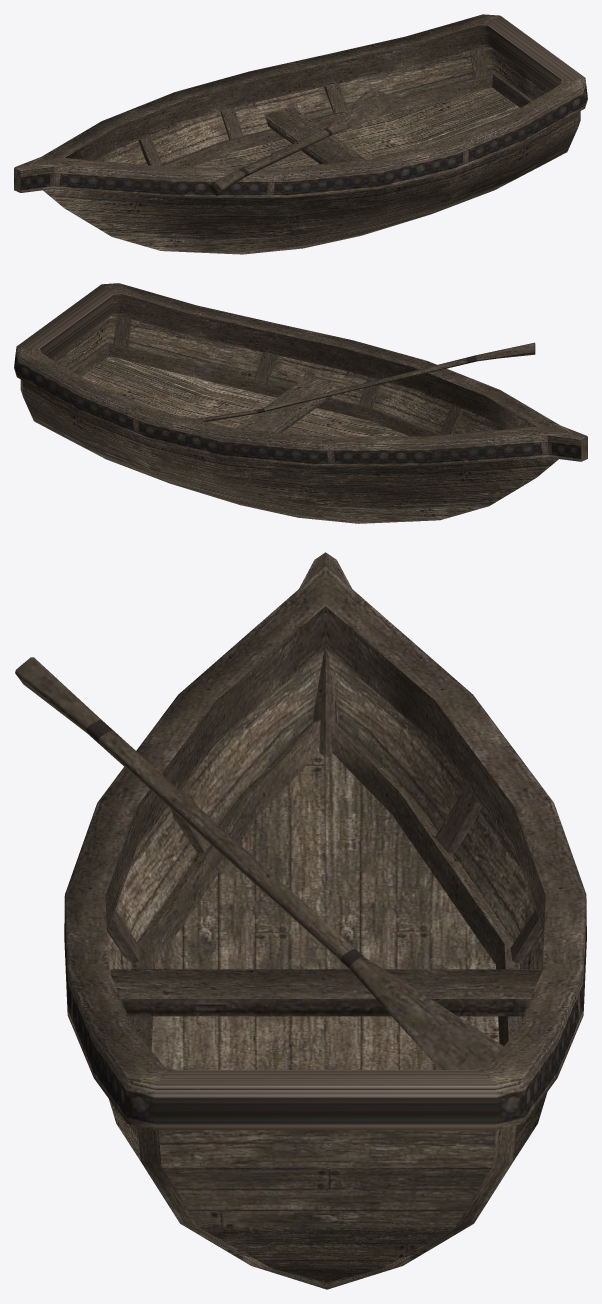
The model's file is eso_gu3_boat1-transformed.glb.
The picture shows the model from 3 angles, top to bottom: view 1: azimuth 30°, elevation 25°; view 2: azimuth 150°, elevation 25°; view 3: azimuth 270°, elevation 25°; orthographic projection. The views are drawn at different scales.
Parts seen in each view (by area): view 1: default; view 2: default; view 3: default.
Part boxes in pixels (bbox=[...]): default: bbox=[14, 14, 587, 254]; default: bbox=[14, 283, 587, 523]; default: bbox=[15, 552, 586, 1289].
Size of the model in its own units: 5.22 by 1.52 by 2.43.
1 material, 1 textured.
